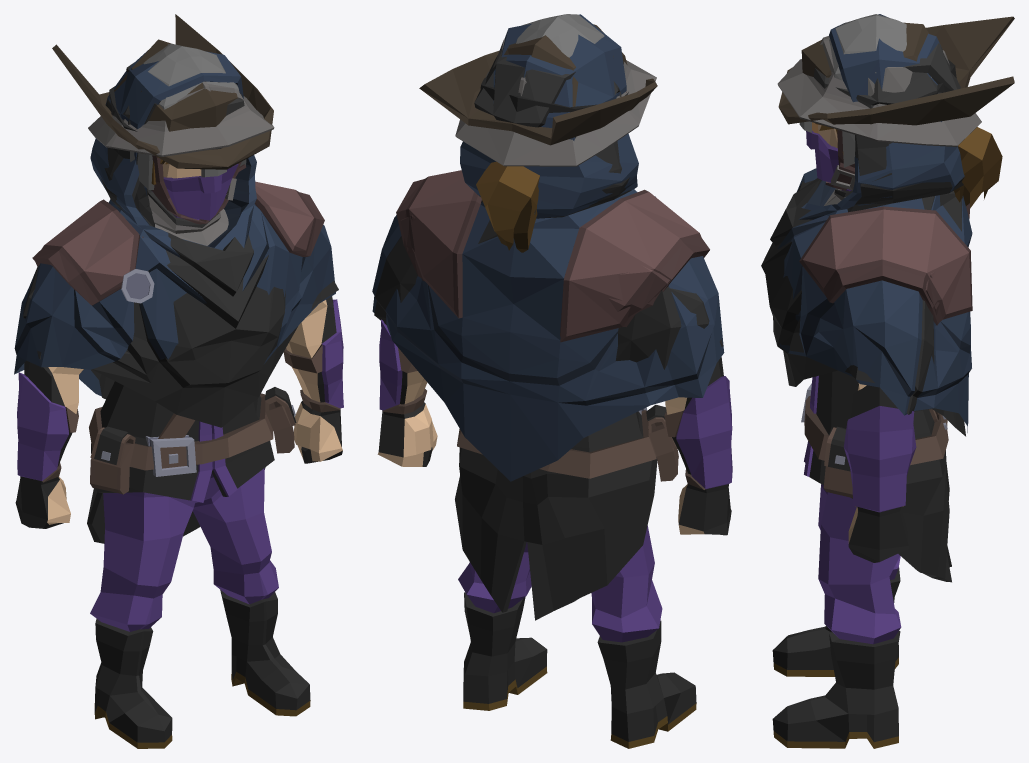
File: HATS_Rogue_female.fbx
3 renders of one model, left to right at view 1: azimuth 30°, elevation 25°; view 2: azimuth 150°, elevation 25°; view 3: azimuth 270°, elevation 25°, orthographic. The views are drawn at different scales.
Parts seen in each view (by area): view 1: rogue_03a_female02_hats:rogue_base_female, rogue_03a_female02_hats:shall2, rogue_03a_female02_hats:shall1, rogue_03a_female02_hats:HuntersHat, rogue_03a_female02_hats:pothelm, rogue_03a_female02_hats:chainHelm; view 2: rogue_03a_female02_hats:shall2, rogue_03a_female02_hats:rogue_base_female, rogue_03a_female02_hats:shall1, rogue_03a_female02_hats:HuntersHat, rogue_03a_female02_hats:pothelm, rogue_03a_female02_hats:rogue_female_hairChain, rogue_03a_female02_hats:bandana, rogue_03a_female02_hats:chainHelm; view 3: rogue_03a_female02_hats:rogue_base_female, rogue_03a_female02_hats:shall2, rogue_03a_female02_hats:shall1, rogue_03a_female02_hats:HuntersHat, rogue_03a_female02_hats:pothelm, rogue_03a_female02_hats:chainHelm, rogue_03a_female02_hats:bandana, rogue_03a_female02_hats:rogue_female_hairChain.
Part boxes in pixels (bbox=[...]): rogue_03a_female02_hats:rogue_base_female: bbox=[15, 162, 343, 748]; rogue_03a_female02_hats:shall2: bbox=[14, 50, 335, 396]; rogue_03a_female02_hats:shall1: bbox=[23, 93, 338, 427]; rogue_03a_female02_hats:HuntersHat: bbox=[52, 14, 273, 169]; rogue_03a_female02_hats:pothelm: bbox=[88, 81, 274, 224]; rogue_03a_female02_hats:chainHelm: bbox=[130, 43, 246, 245]; rogue_03a_female02_hats:shall2: bbox=[372, 14, 724, 481]; rogue_03a_female02_hats:rogue_base_female: bbox=[377, 319, 732, 748]; rogue_03a_female02_hats:shall1: bbox=[374, 137, 723, 369]; rogue_03a_female02_hats:HuntersHat: bbox=[419, 24, 657, 145]; rogue_03a_female02_hats:pothelm: bbox=[455, 39, 656, 166]; rogue_03a_female02_hats:rogue_female_hairChain: bbox=[476, 161, 539, 252]; rogue_03a_female02_hats:bandana: bbox=[474, 49, 621, 214]; rogue_03a_female02_hats:chainHelm: bbox=[516, 14, 604, 57]; rogue_03a_female02_hats:rogue_base_female: bbox=[772, 122, 951, 748]; rogue_03a_female02_hats:shall2: bbox=[777, 14, 972, 432]; rogue_03a_female02_hats:shall1: bbox=[761, 135, 967, 436]; rogue_03a_female02_hats:HuntersHat: bbox=[778, 16, 1014, 130]; rogue_03a_female02_hats:pothelm: bbox=[777, 36, 981, 190]; rogue_03a_female02_hats:chainHelm: bbox=[799, 14, 906, 205]; rogue_03a_female02_hats:bandana: bbox=[813, 43, 960, 108]; rogue_03a_female02_hats:rogue_female_hairChain: bbox=[954, 127, 1002, 208].
Size of the model in its own units: 474 by 904 by 302.
